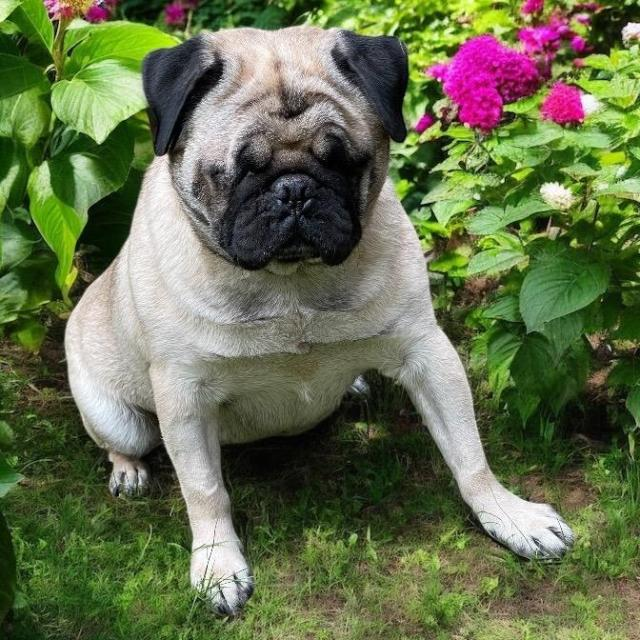pug_dog: (133, 15, 420, 286)
